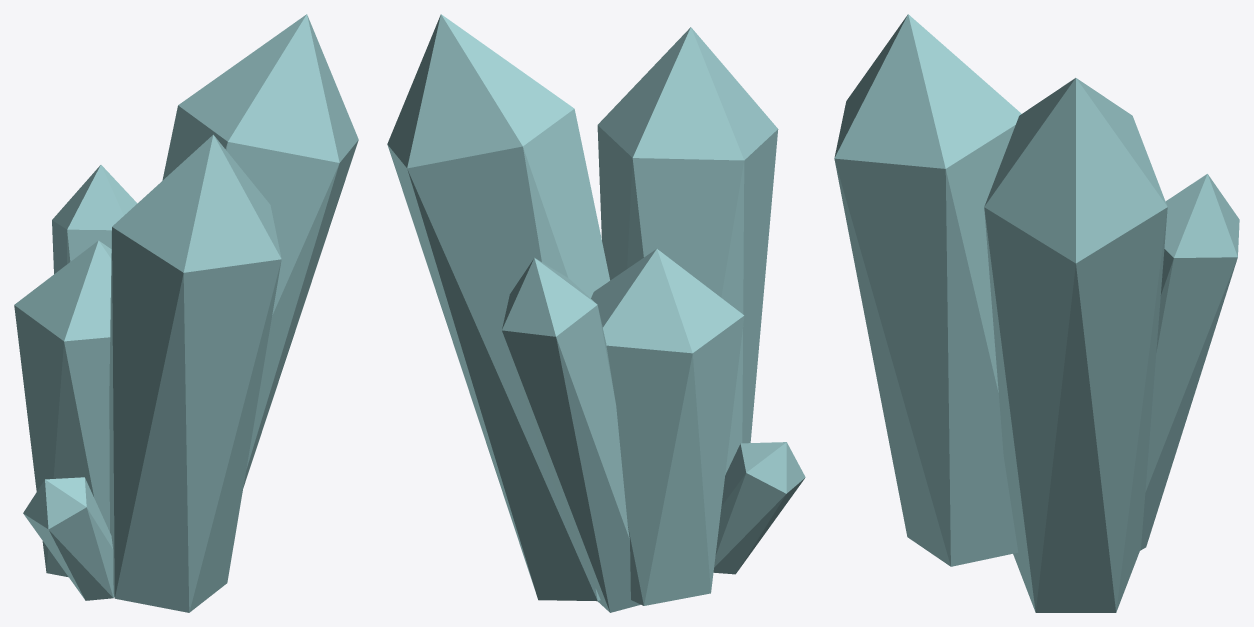
The model's file is crystal.fbx.
The picture shows the model from 3 angles, left to right: view 1: azimuth 30°, elevation 25°; view 2: azimuth 150°, elevation 25°; view 3: azimuth 270°, elevation 25°; orthographic projection. The views are drawn at different scales.
Parts seen in each view (by area): view 1: Icosphere.003; view 2: Icosphere.003; view 3: Icosphere.003.
Part boxes in pixels (x1=…): Icosphere.003: x1=14, y1=14, x2=358, y2=612; Icosphere.003: x1=387, y1=14, x2=805, y2=612; Icosphere.003: x1=834, y1=14, x2=1239, y2=612.
Bounding box in the file's own units: 0.68 × 0.947 × 0.5825.
